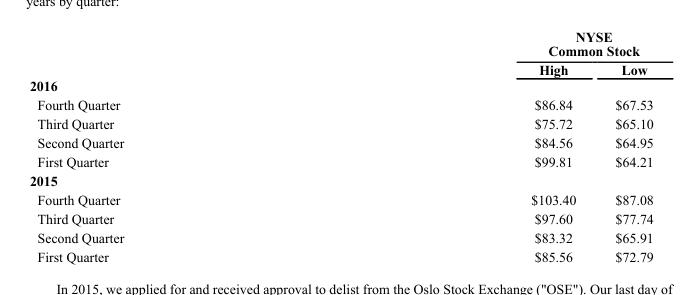table: (28, 28, 652, 263)
table column: (28, 28, 326, 263), (326, 28, 595, 263), (595, 28, 652, 263)
table column header: (28, 28, 652, 77)
table projected row header: (28, 77, 652, 95), (28, 171, 652, 189)
table row: (28, 28, 652, 59), (28, 95, 652, 114), (28, 114, 652, 133), (28, 133, 652, 152), (28, 152, 652, 171), (28, 189, 652, 208), (28, 208, 652, 227), (28, 227, 652, 246), (28, 59, 652, 77), (28, 77, 652, 95), (28, 171, 652, 189), (28, 246, 652, 263)
table spanning cell: (326, 28, 652, 59)
